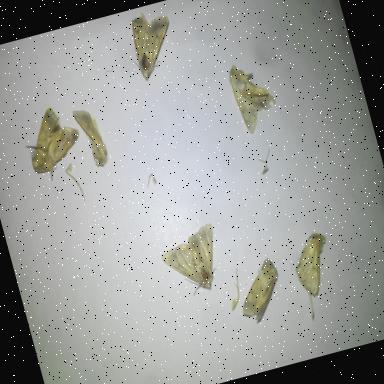abw: (154, 218, 234, 306), (14, 98, 92, 188), (284, 224, 350, 324), (222, 52, 286, 138), (120, 6, 185, 86), (228, 253, 294, 329), (67, 100, 117, 174)
